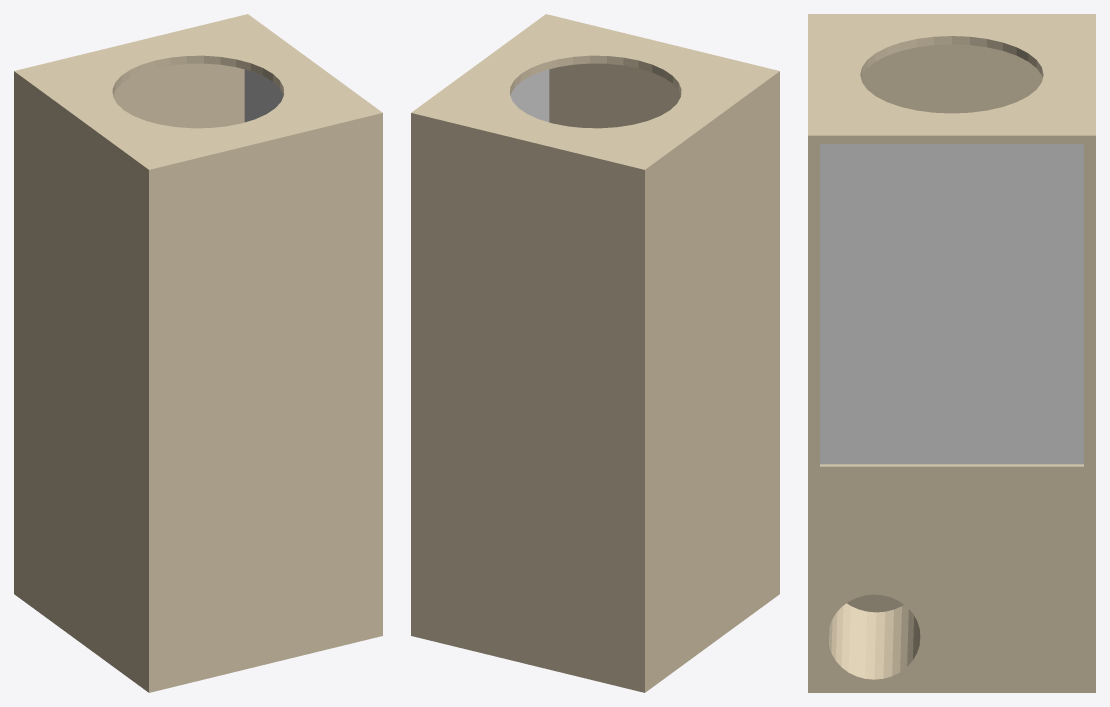
File: WaWaJi.fbx
The picture shows the model from 3 angles, left to right: view 1: azimuth 30°, elevation 25°; view 2: azimuth 150°, elevation 25°; view 3: azimuth 270°, elevation 25°; orthographic projection. The views are drawn at different scales.
Visible parts, largest first — view 1: Cube, Glass; view 2: Cube, Glass; view 3: Cube, Glass.
Boxes of the visible parts, x1,y1,x2,y2 form: Cube: (14,14,382,692); Glass: (244,69,283,122); Cube: (411,14,779,692); Glass: (510,69,549,122); Cube: (808,14,1095,692); Glass: (820,144,1083,464).
Bounding box in the file's own units: 3.14 × 6.71 × 3.14.
